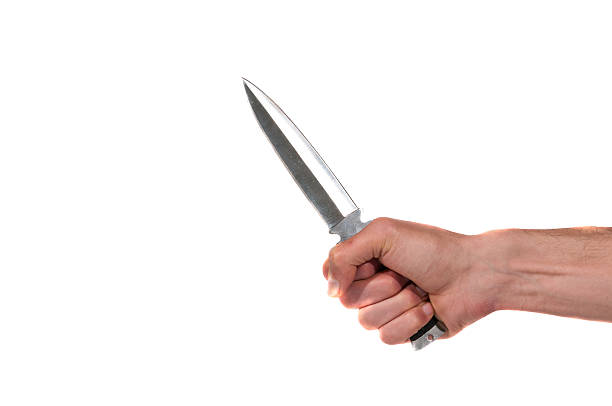knife: (240, 74, 450, 352)
